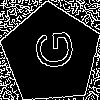G: (26, 29, 74, 71)
